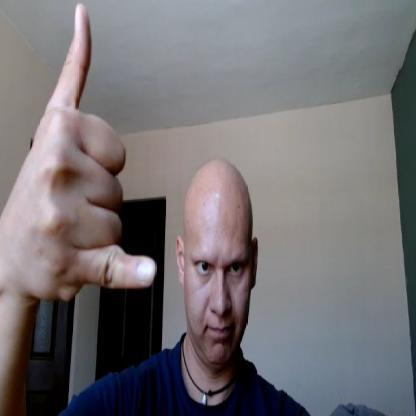Y: (0, 1, 157, 291)
